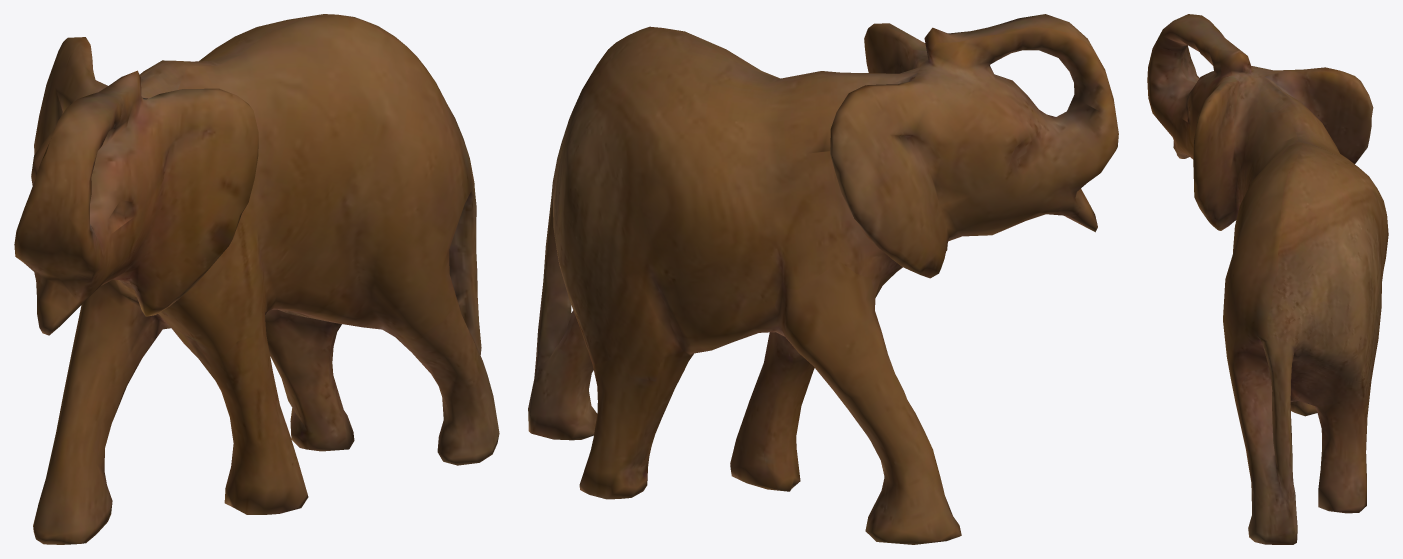
The model's file is carved_wooden_elephant.glb.
3 renders of one model, left to right at view 1: azimuth 30°, elevation 25°; view 2: azimuth 150°, elevation 25°; view 3: azimuth 270°, elevation 25°, orthographic. The views are drawn at different scales.
Parts seen in each view (by area): view 1: carved_wooden_elephant; view 2: carved_wooden_elephant; view 3: carved_wooden_elephant.
Part boxes in pixels (box(x1,y1,x2,y2)): carved_wooden_elephant: box(14, 14, 499, 544); carved_wooden_elephant: box(528, 14, 1118, 544); carved_wooden_elephant: box(1147, 14, 1388, 544).
Size of the model in its own units: 0.1092 by 0.0961 by 0.0576.
Materials: 1 (1 with a texture image).
